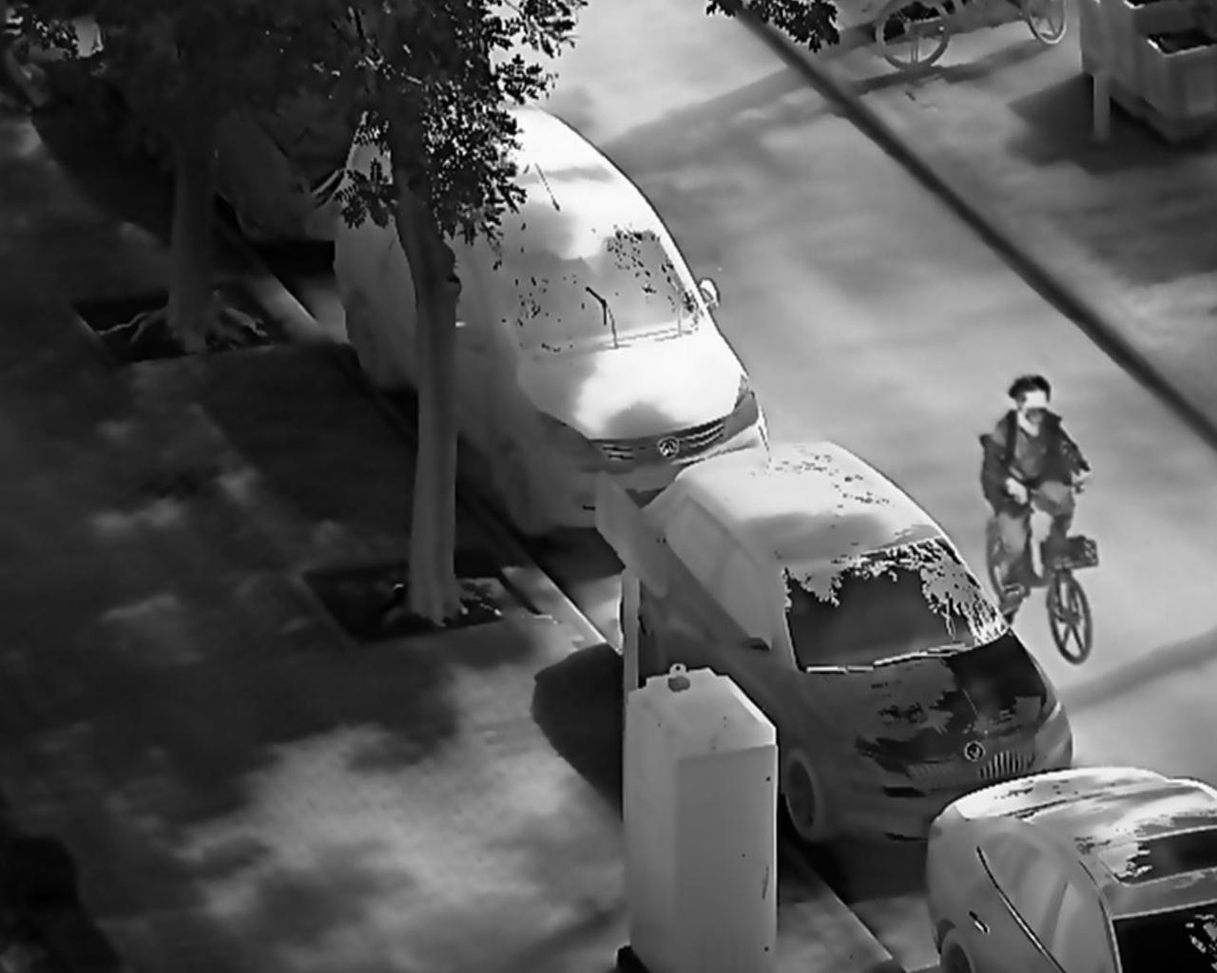person: (976, 372, 1095, 601)
